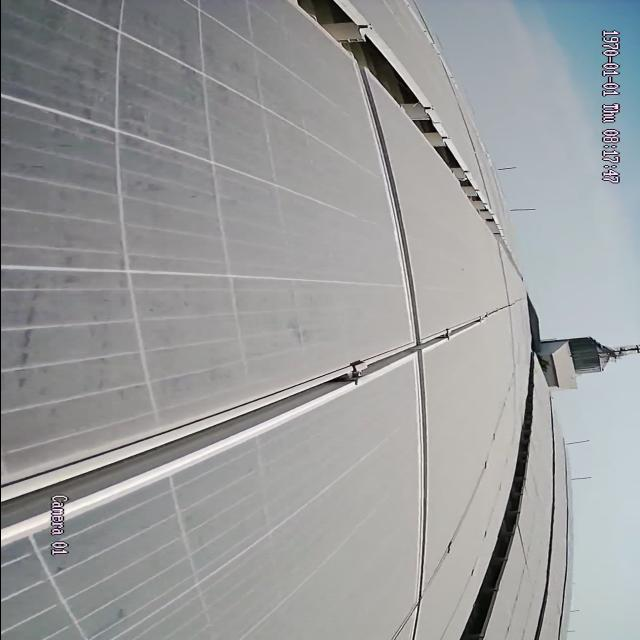interior panel: (15, 346, 393, 528), (353, 77, 424, 326), (405, 358, 427, 625), (424, 303, 503, 349)
outher panel: (289, 1, 500, 240), (460, 367, 535, 629)
